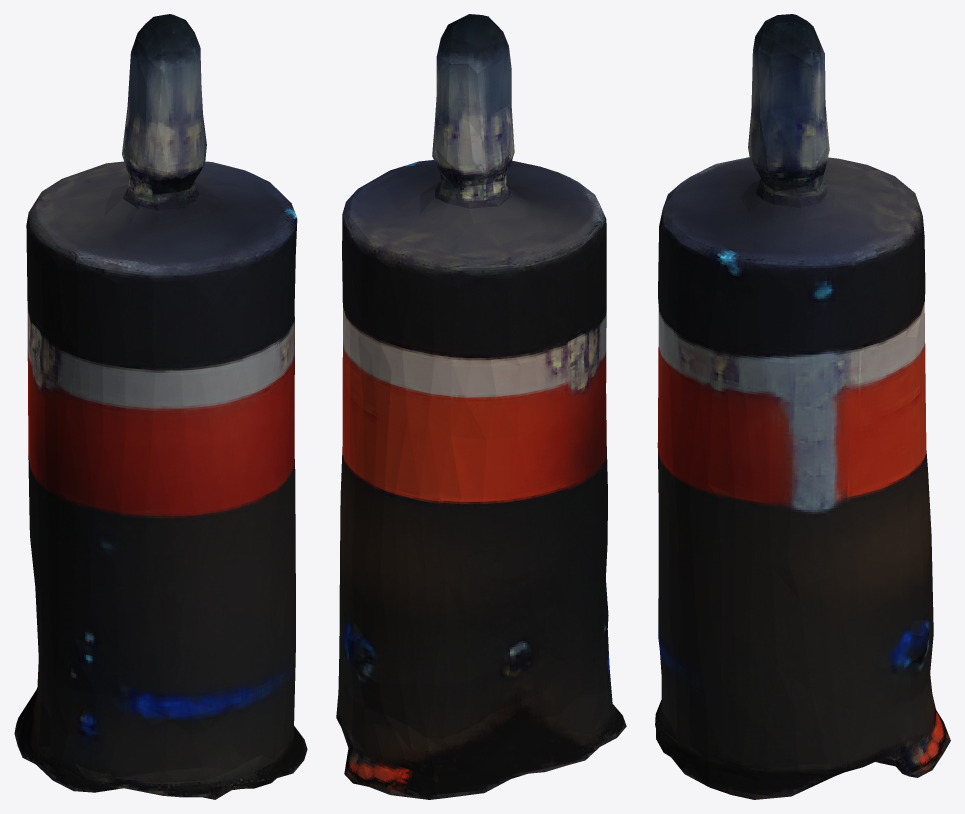
File: danger_mark51.glb
The picture shows the model from 3 angles, left to right: view 1: azimuth 30°, elevation 25°; view 2: azimuth 150°, elevation 25°; view 3: azimuth 270°, elevation 25°; orthographic projection. The views are drawn at different scales.
Visible parts, largest first — view 1: world; view 2: world; view 3: world.
Boxes of the visible parts, x1=… form: world: x1=14, y1=14, x2=307, y2=799; world: x1=336, y1=14, x2=626, y2=799; world: x1=655, y1=14, x2=950, y2=799.
Size of the model in its own units: 0.1372 by 0.3824 by 0.1404.
1 material, 1 textured.
